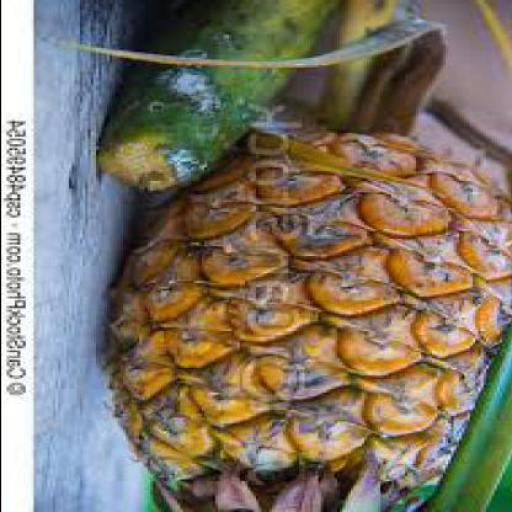biodegradable: (109, 136, 510, 512), (97, 2, 352, 199), (46, 23, 452, 138), (334, 2, 404, 138), (428, 100, 510, 189)
